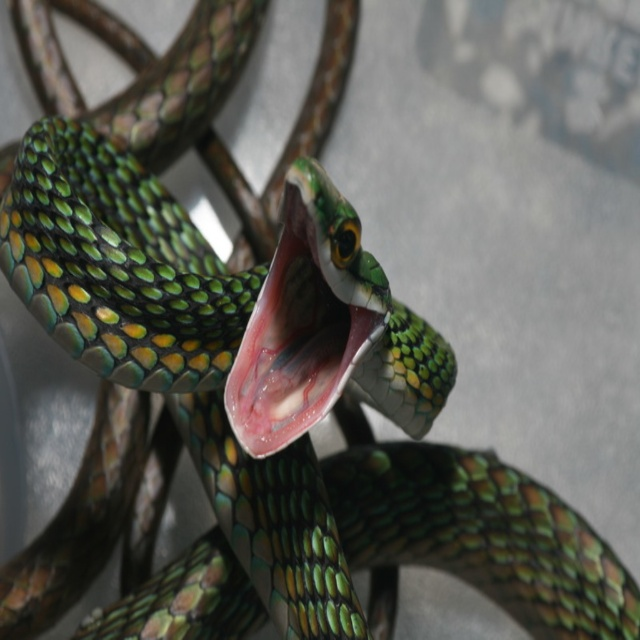Snake: (0, 62, 621, 633)
